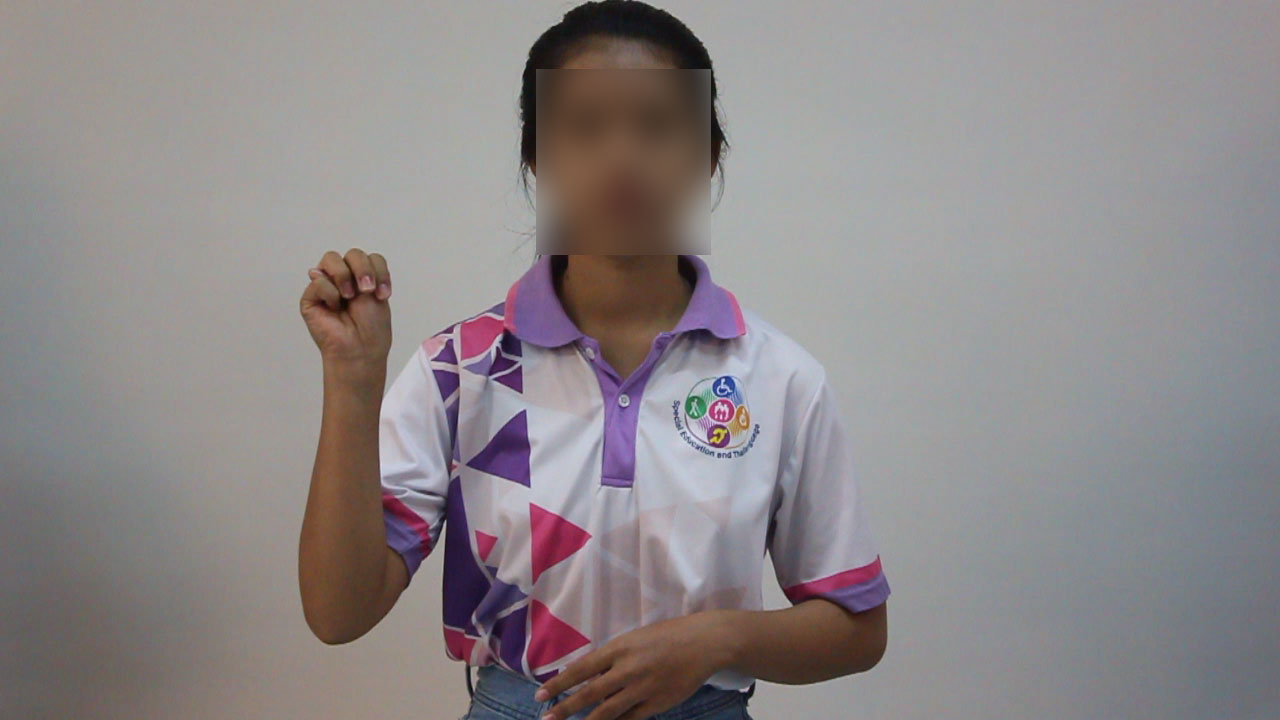mor: (286, 227, 416, 399)
